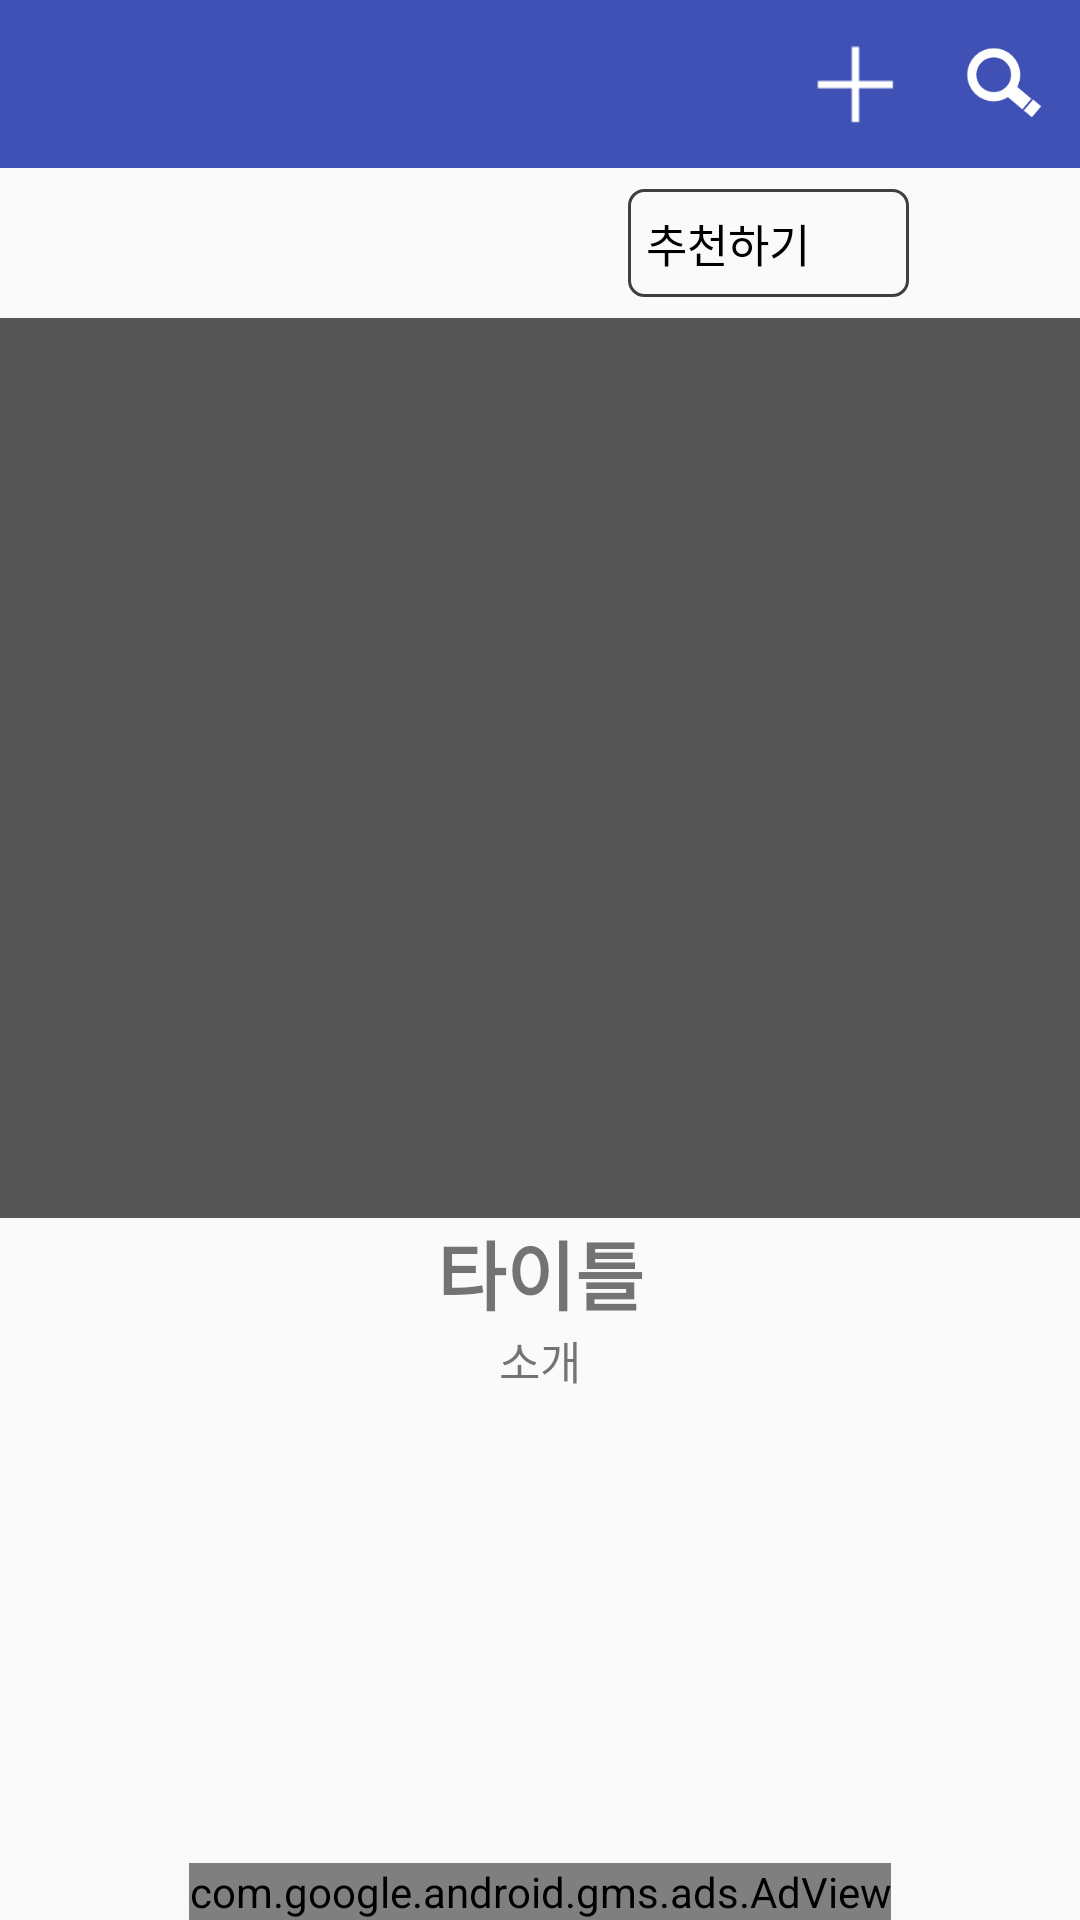

Icons on this 1080 x 1920 Android screen, each with its box as (x1, y1, x2, y2):
plus: (817, 46, 893, 123)
search: (967, 48, 1041, 117)
